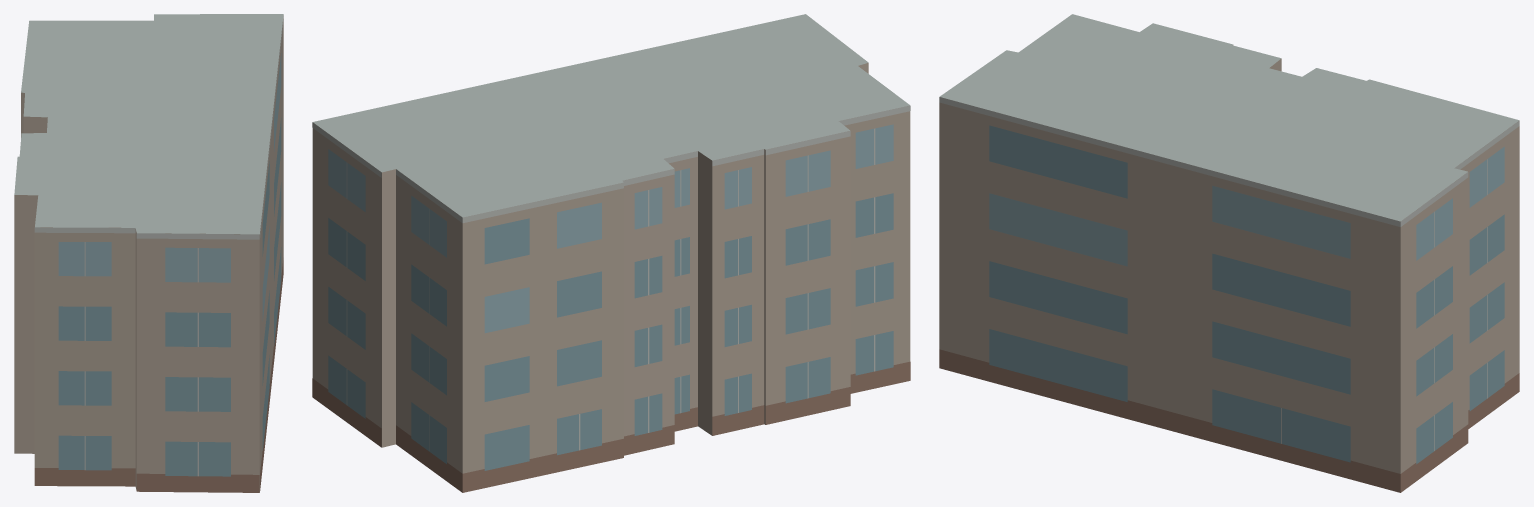
File: survey-upis-32854219.glb
The picture shows the model from 3 angles, left to right: view 1: azimuth 30°, elevation 25°; view 2: azimuth 150°, elevation 25°; view 3: azimuth 270°, elevation 25°; orthographic projection. The views are drawn at different scales.
Visible parts, largest first — view 1: survey-upis-32854219.tmp; view 2: survey-upis-32854219.tmp; view 3: survey-upis-32854219.tmp.
Boxes of the visible parts, box(x1,y1,x2,y2) form: survey-upis-32854219.tmp: box(14, 14, 283, 492); survey-upis-32854219.tmp: box(312, 14, 910, 492); survey-upis-32854219.tmp: box(939, 14, 1519, 492).
Size of the model in its own units: 19.2 by 11.7 by 22.68.
